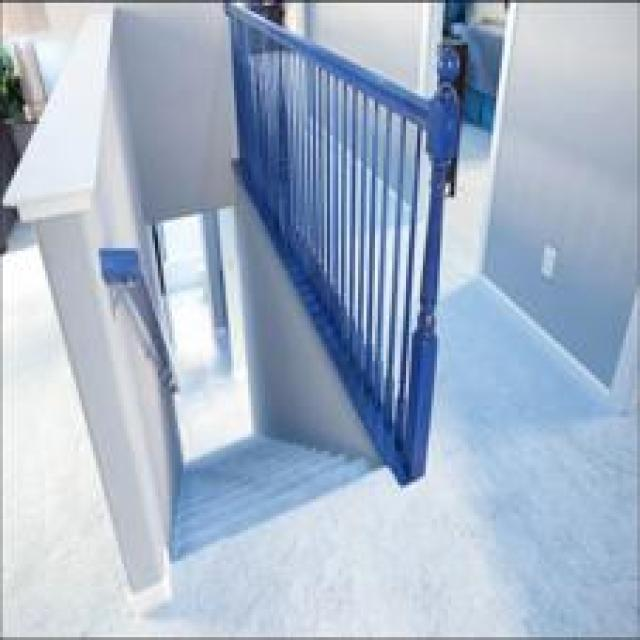stair: (149, 364, 392, 567)
